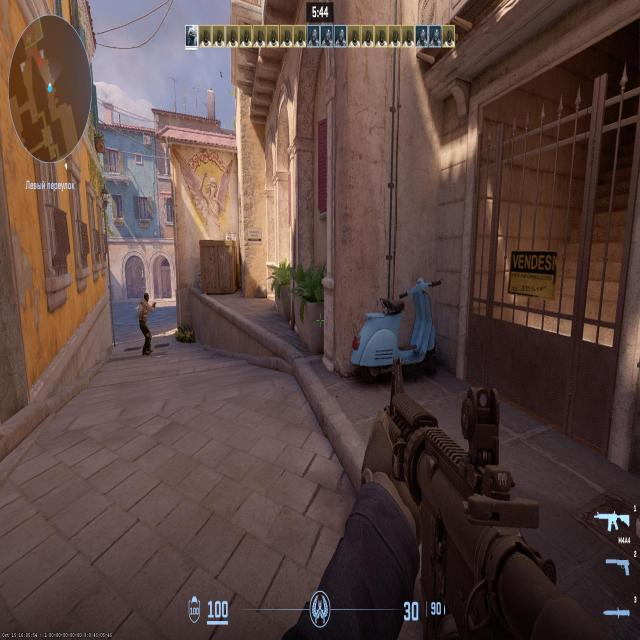T: (144, 296, 151, 358)
T_heat: (144, 296, 148, 306)
